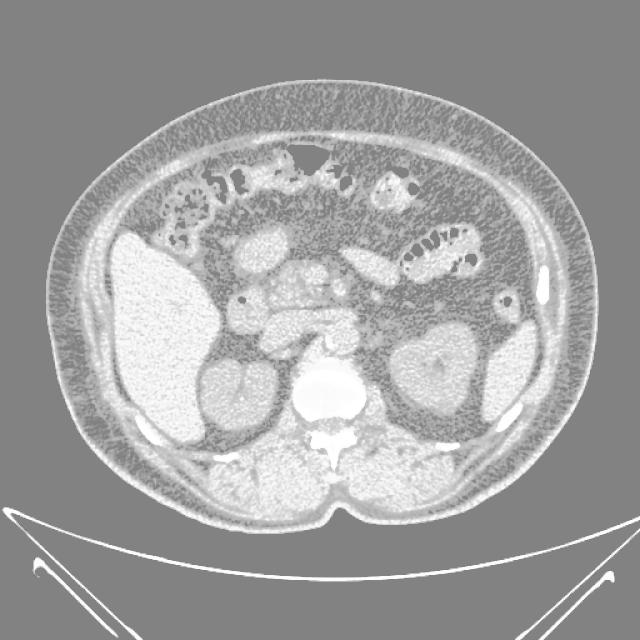STONE: (175, 138, 517, 388)
